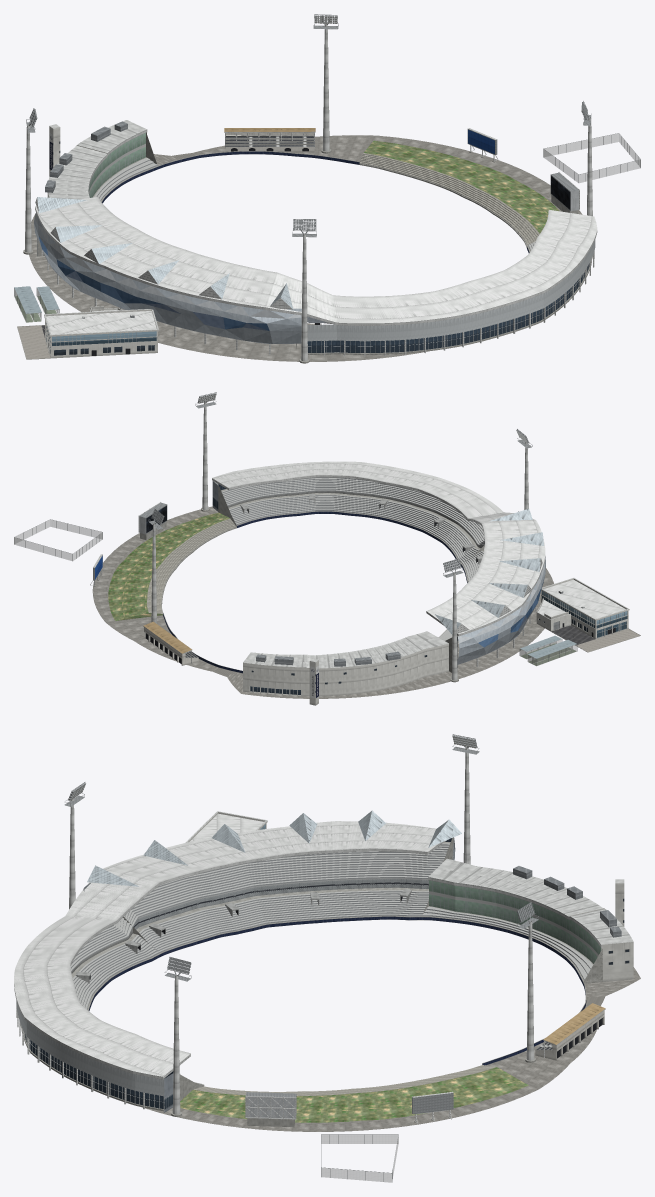
Rendered from bellerive.glb.
3 views of the same model, one above another, from view 1: azimuth 30°, elevation 25°; view 2: azimuth 150°, elevation 25°; view 3: azimuth 270°, elevation 25° (orthographic). The views are drawn at different scales.
Visible parts, largest first — view 1: main_stand, apron, east_terrace, members, indoor_centre, light_towers, ponting_skylights, northern_stand, court_fence, practice_nets, scoreboard, forecourt (+2 smaller); view 2: main_stand, members, apron, east_terrace, indoor_centre, light_towers, ponting_skylights, court_fence, northern_stand, practice_nets, forecourt, scoreboard; view 3: main_stand, members, east_terrace, apron, light_towers, ponting_skylights, northern_stand, scoreboard, court_fence, indoor_centre, video_board, vomitories.
Boxes of the visible parts, x1,y1,x2,y2 form: main_stand: (34, 197, 597, 356); apron: (29, 135, 592, 361); east_terrace: (359, 140, 559, 247); members: (45, 120, 158, 203); indoor_centre: (44, 306, 158, 358); light_towers: (23, 14, 592, 363); ponting_skylights: (35, 197, 293, 309); northern_stand: (224, 128, 315, 152); court_fence: (543, 133, 640, 182); practice_nets: (14, 286, 59, 322); scoreboard: (550, 172, 579, 213); forecourt: (17, 325, 50, 359); main_stand: (212, 461, 545, 672); members: (243, 631, 448, 705); apron: (92, 506, 553, 698); east_terrace: (108, 512, 236, 620); indoor_centre: (536, 578, 629, 638); light_towers: (148, 392, 532, 682); ponting_skylights: (435, 508, 543, 634); court_fence: (14, 519, 102, 561); northern_stand: (143, 621, 198, 665); practice_nets: (519, 635, 577, 666); forecourt: (551, 625, 640, 652); scoreboard: (138, 502, 167, 540); main_stand: (14, 821, 455, 1112); members: (421, 858, 633, 983); east_terrace: (180, 1065, 528, 1122); apron: (107, 919, 640, 1131); light_towers: (64, 734, 538, 1116); ponting_skylights: (87, 810, 461, 886); northern_stand: (535, 1003, 605, 1060); scoreboard: (245, 1092, 296, 1127); court_fence: (321, 1134, 398, 1182); indoor_centre: (185, 811, 267, 842); video_board: (412, 1091, 453, 1123); vomitories: (75, 889, 411, 983).
Bounding box in the file's own units: 285 × 57.03 × 212.
Materials: 51 (51 with a texture image).
